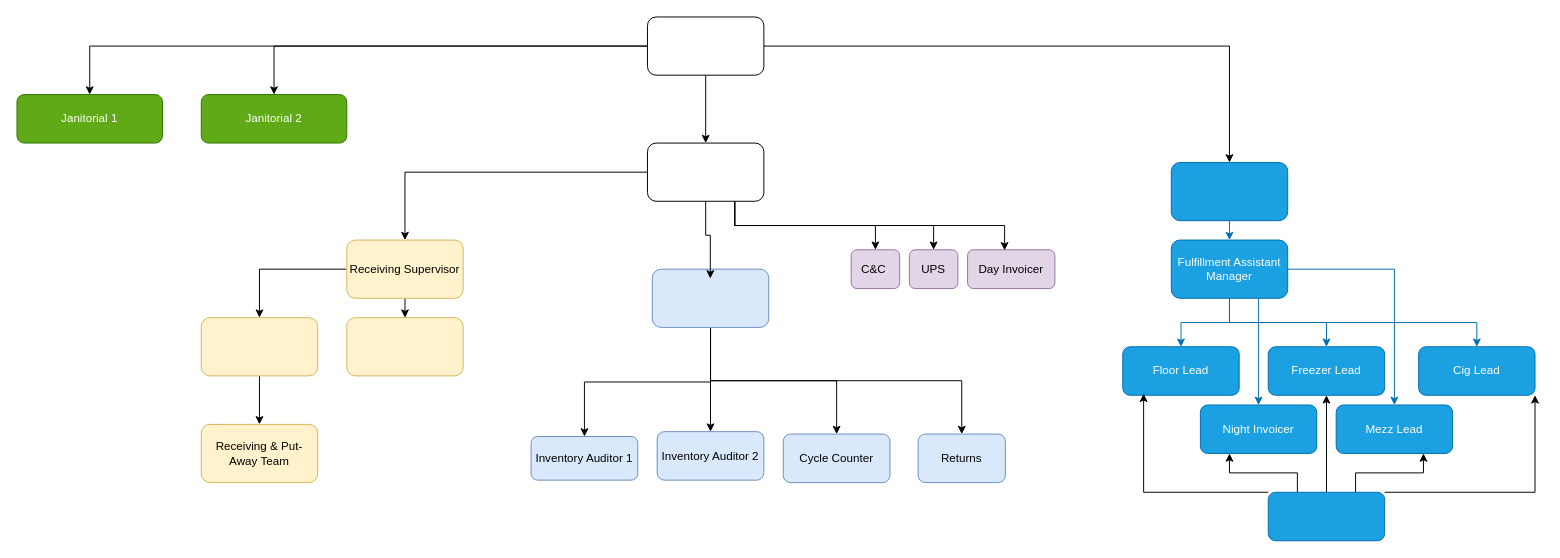
This 1560x558 diagram has some shape labels left out. Here are the shapes that lost their labels. From the top down, the centre of each, then its label:
At point (705, 45): "Operations Manager".
At point (705, 171): "Day Warehouse Manager".
At point (1229, 191): "Fulfillment Manager".
At point (710, 297): "Inventory Supervisor".
At point (259, 346): "Receiving Floor Lead".
At point (404, 346): "Receiving Specialist".
At point (1326, 516): "Fulfillment Team Members".
